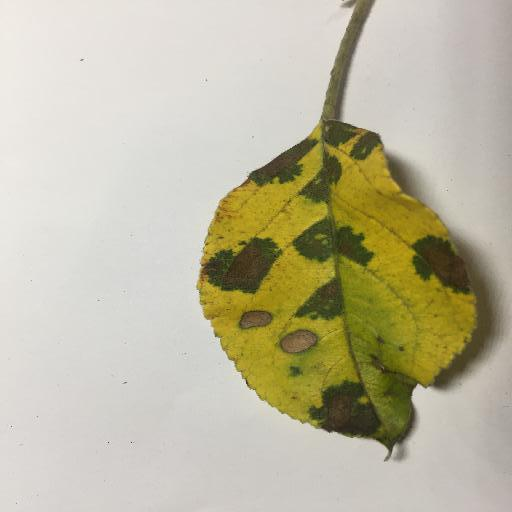Brown_Spot: (414, 241, 470, 289), (318, 389, 374, 434), (220, 245, 268, 284), (254, 150, 312, 178), (312, 283, 341, 315), (274, 334, 315, 355), (240, 309, 270, 326)
